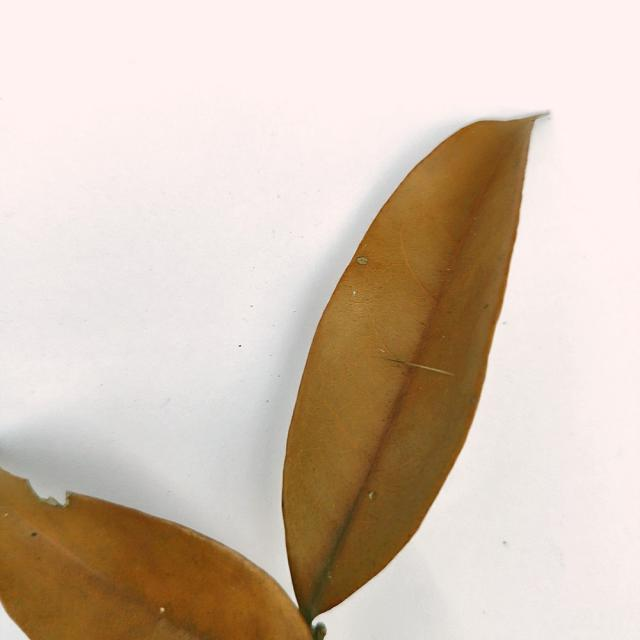Dry_Leaf-Lychee: (0, 116, 538, 639)
